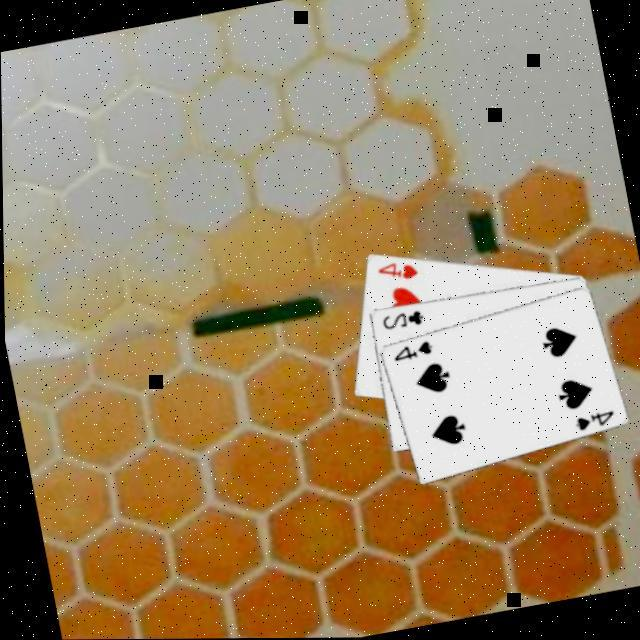2C: (378, 306, 427, 336)
4H: (372, 256, 422, 288)
4S: (387, 338, 436, 368), (570, 408, 618, 438)
